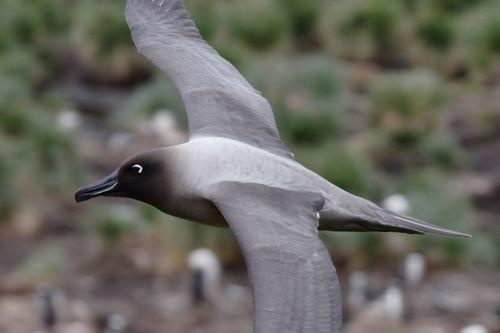bird: (71, 1, 471, 333)
